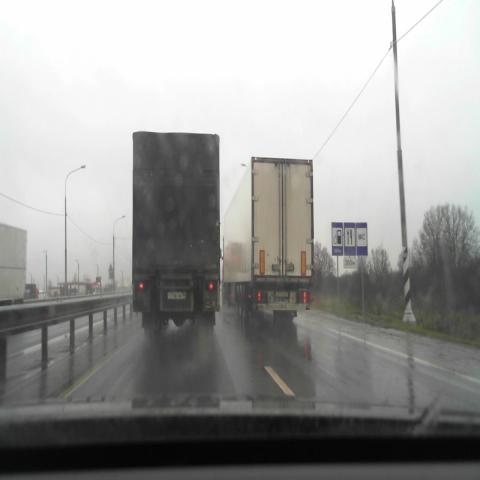7_18: (356, 223, 368, 255)
7_7: (344, 222, 356, 256)
